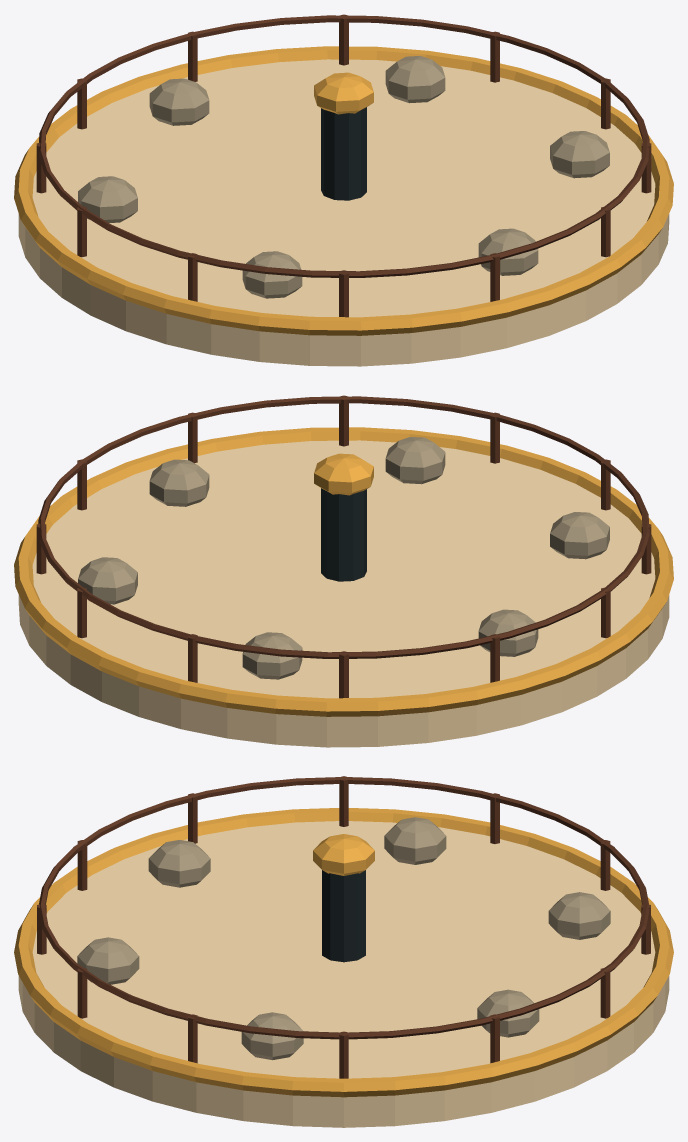
Rendered from ParkParkBalloonPad.obj.
The picture shows the model from 3 angles, top to bottom: view 1: azimuth 30°, elevation 25°; view 2: azimuth 150°, elevation 25°; view 3: azimuth 270°, elevation 25°; orthographic projection.
Visible parts, largest first — view 1: ParkParkBalloonPad; view 2: ParkParkBalloonPad; view 3: ParkParkBalloonPad.
Boxes of the visible parts, x1,y1,x2,y2 form: ParkParkBalloonPad: (14, 14, 673, 366); ParkParkBalloonPad: (14, 395, 673, 747); ParkParkBalloonPad: (14, 776, 673, 1127).
Size of the model in its own units: 14.2 by 3.6 by 14.2.
